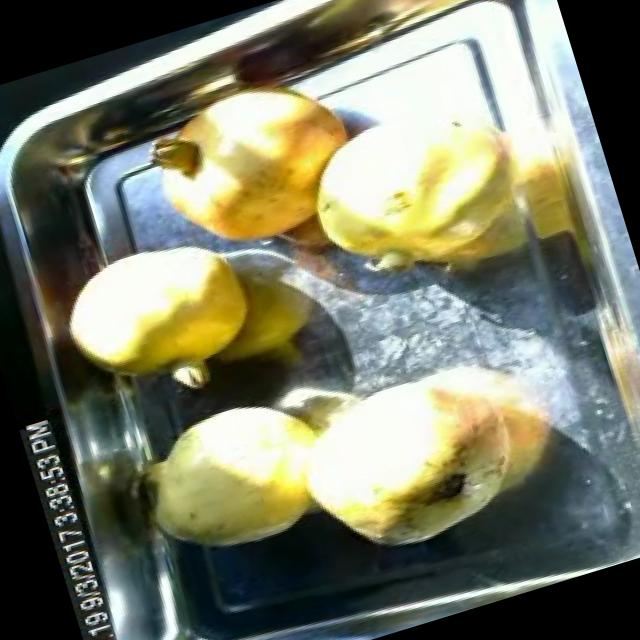fruit: (268, 334, 560, 582), (275, 71, 552, 315), (127, 50, 386, 278), (44, 214, 282, 426), (109, 374, 350, 578)
